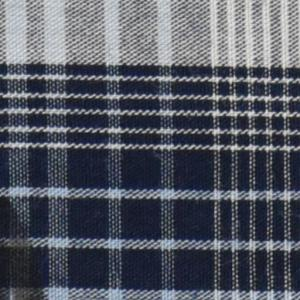Stain: (1, 194, 48, 300)
